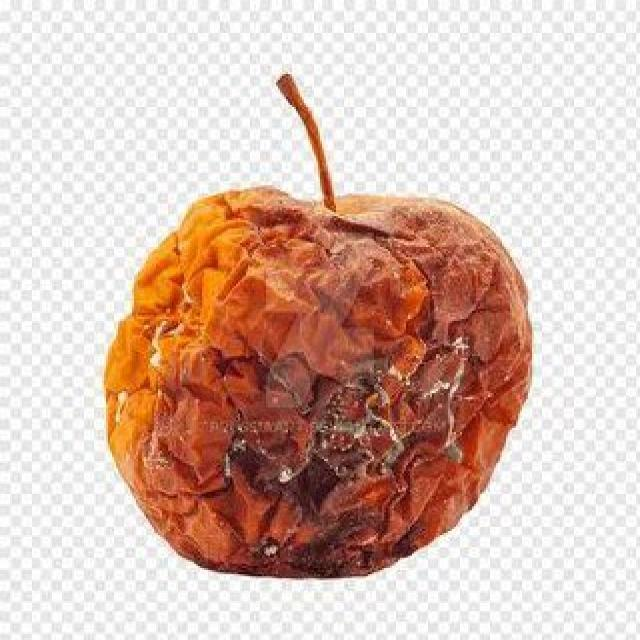Rotten: (110, 174, 528, 584)
